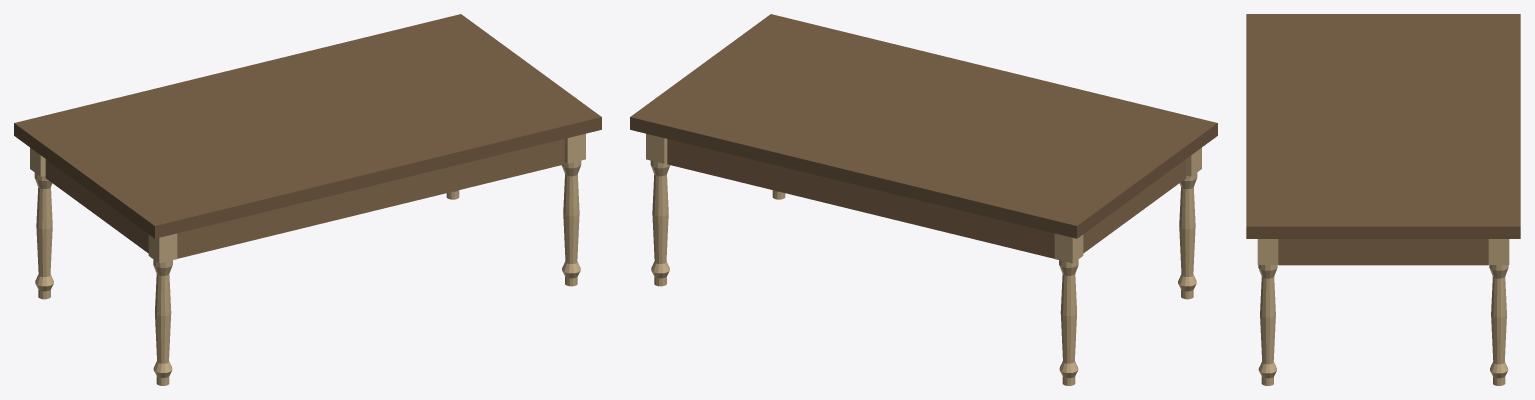
Rendered from BIB-COF-std.glb.
3 views of the same model, side by side, from view 1: azimuth 30°, elevation 25°; view 2: azimuth 150°, elevation 25°; view 3: azimuth 270°, elevation 25° (orthographic). The views are drawn at different scales.
Visible parts, largest first — view 1: top:pbr, apron-f:pbr, leg-fl:pbr, leg-fr:pbr, leg-bl:pbr, apron-l:pbr; view 2: top:pbr, apron-b:pbr, leg-bl:pbr, leg-br:pbr, leg-fl:pbr, apron-l:pbr; view 3: top:pbr, apron-r:pbr, leg-fr:pbr, leg-br:pbr.
Boxes of the visible parts, <box> form: top:pbr: <box>14,14,601,238</box>; apron-f:pbr: <box>177,139,564,258</box>; leg-fl:pbr: <box>148,233,177,385</box>; leg-fr:pbr: <box>561,133,585,286</box>; leg-bl:pbr: <box>30,147,53,299</box>; apron-l:pbr: <box>45,159,148,253</box>; top:pbr: <box>630,14,1217,238</box>; apron-b:pbr: <box>667,139,1054,258</box>; leg-bl:pbr: <box>1054,233,1083,385</box>; leg-br:pbr: <box>646,133,670,286</box>; leg-fl:pbr: <box>1178,147,1201,299</box>; apron-l:pbr: <box>1083,159,1186,253</box>; top:pbr: <box>1246,14,1520,238</box>; apron-r:pbr: <box>1278,239,1488,265</box>; leg-fr:pbr: <box>1257,239,1278,385</box>; leg-br:pbr: <box>1488,239,1509,385</box>.
Bounding box in the file's own units: 1.1 × 0.4 × 0.6.
